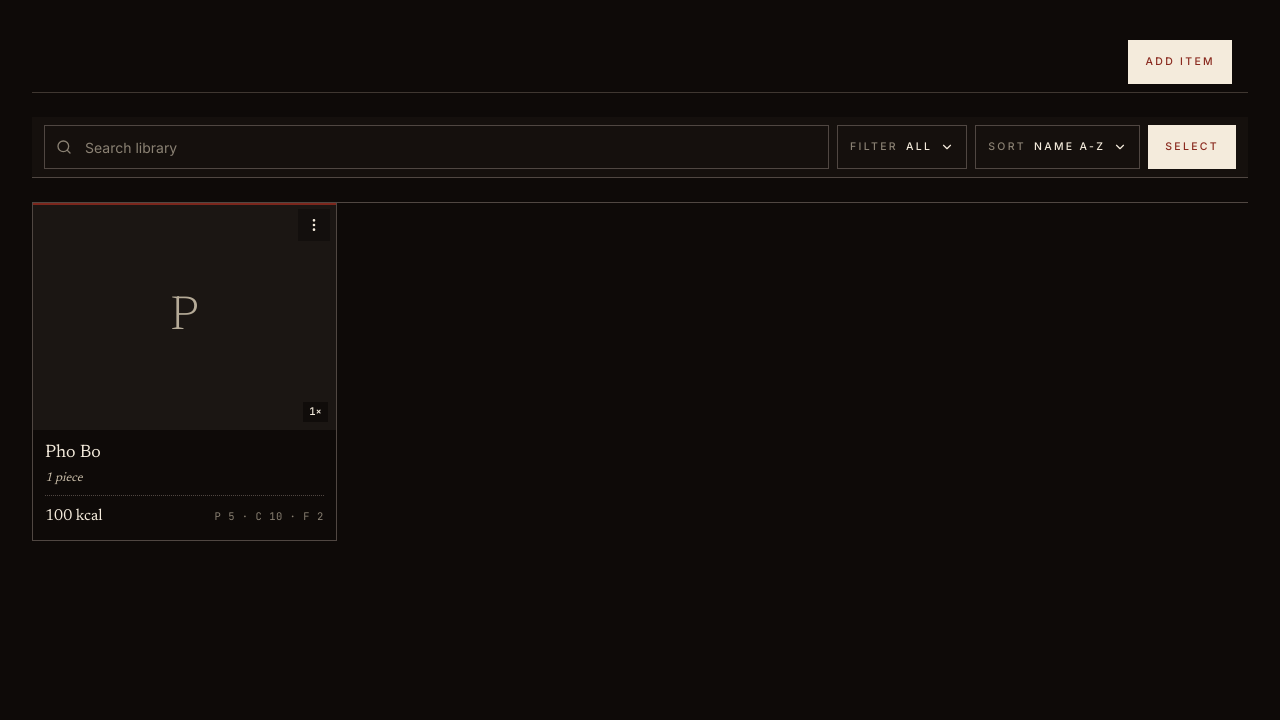
Test case: <LibraryClient /> quick-action menu wiring (Bug 3) › Add Item button exposes quota-check busy state while the quota request is pending
The image size is (1280, 720).
Click the button with test id "library-add-button" at (1180, 62), box top-left (1128, 40), bottom-right (1232, 84)
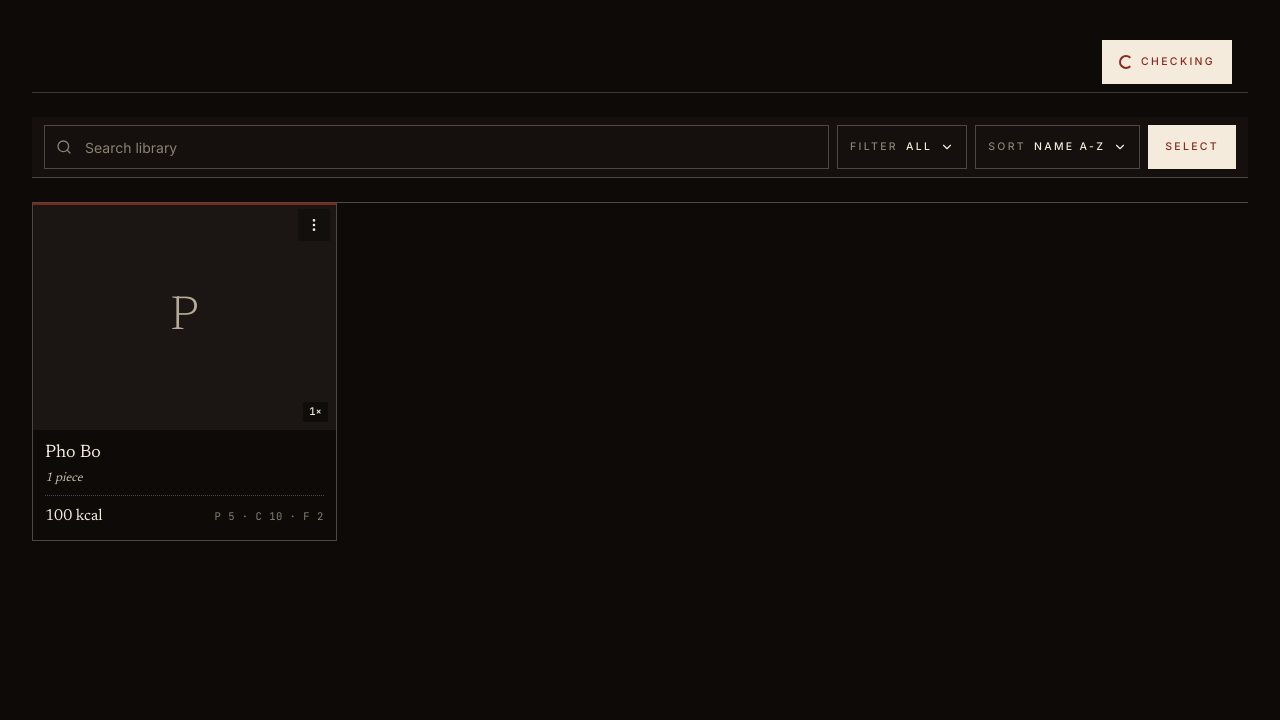
Now the button with test id "library-add-button" reads "CHECKING", box top-left (1102, 40), bottom-right (1232, 84)
Now the button with test id "library-add-button" is disabled, box top-left (1102, 40), bottom-right (1232, 84)
